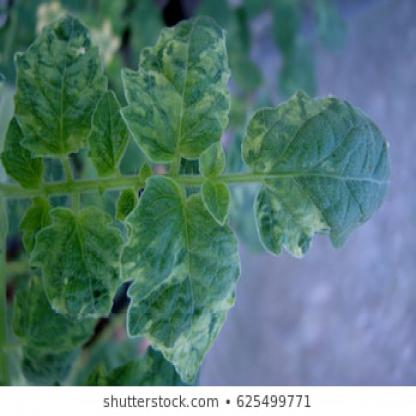tomato leaf mosaic virus: (243, 88, 397, 260), (113, 177, 239, 379), (119, 12, 235, 165), (10, 19, 109, 172), (30, 198, 128, 325)
